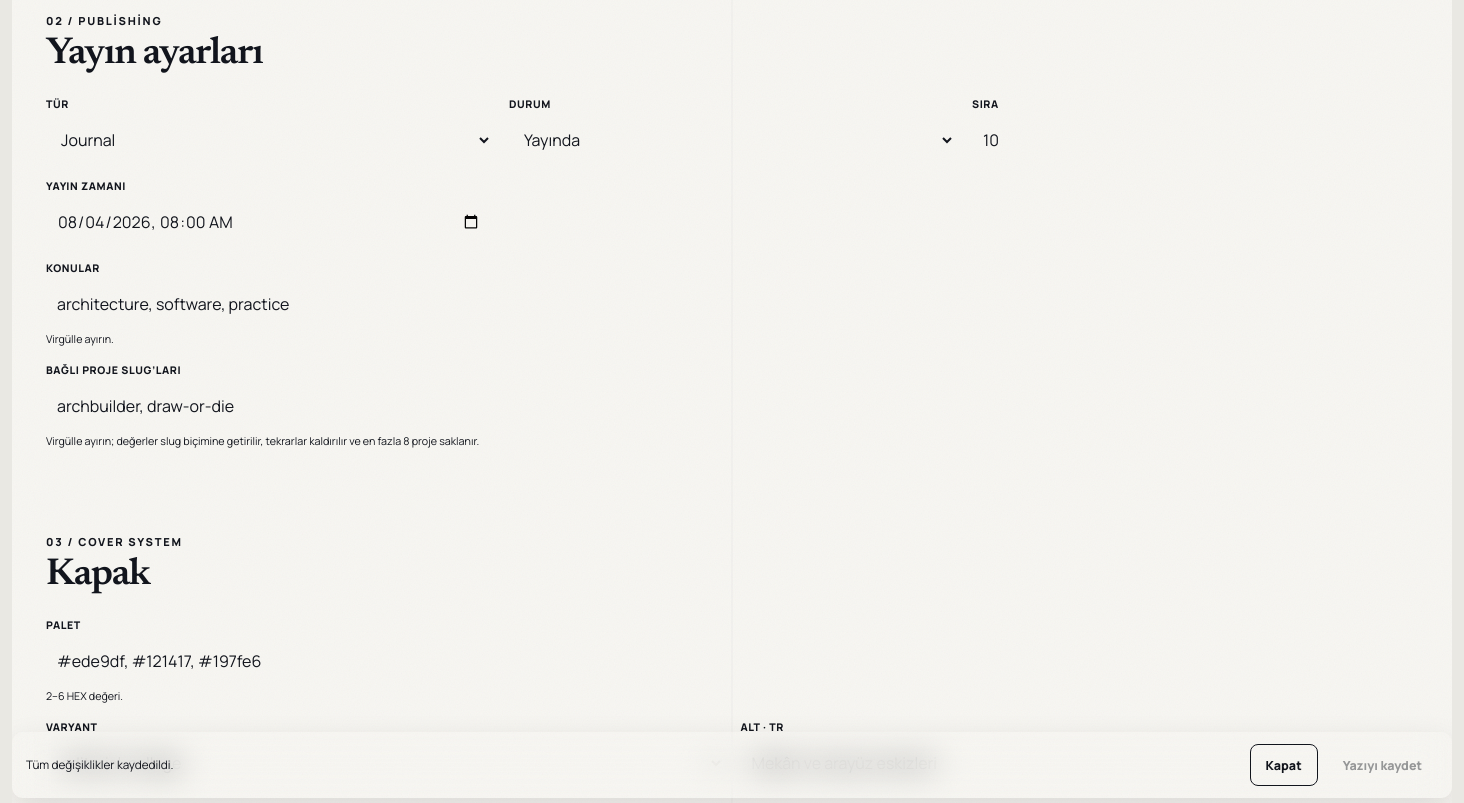
it: JournalEditor › normalizes, deduplicates, saves, and baselines linked project slugs
(page scrolled)
Replace the text in the field labelled "Bağlı proje slug’ları" with "Draw Or Die, archbuilder, draw-or-die, BeatForge" at {"x": 732, "y": 406}, box [46,384,1418,427]
(page scrolled)
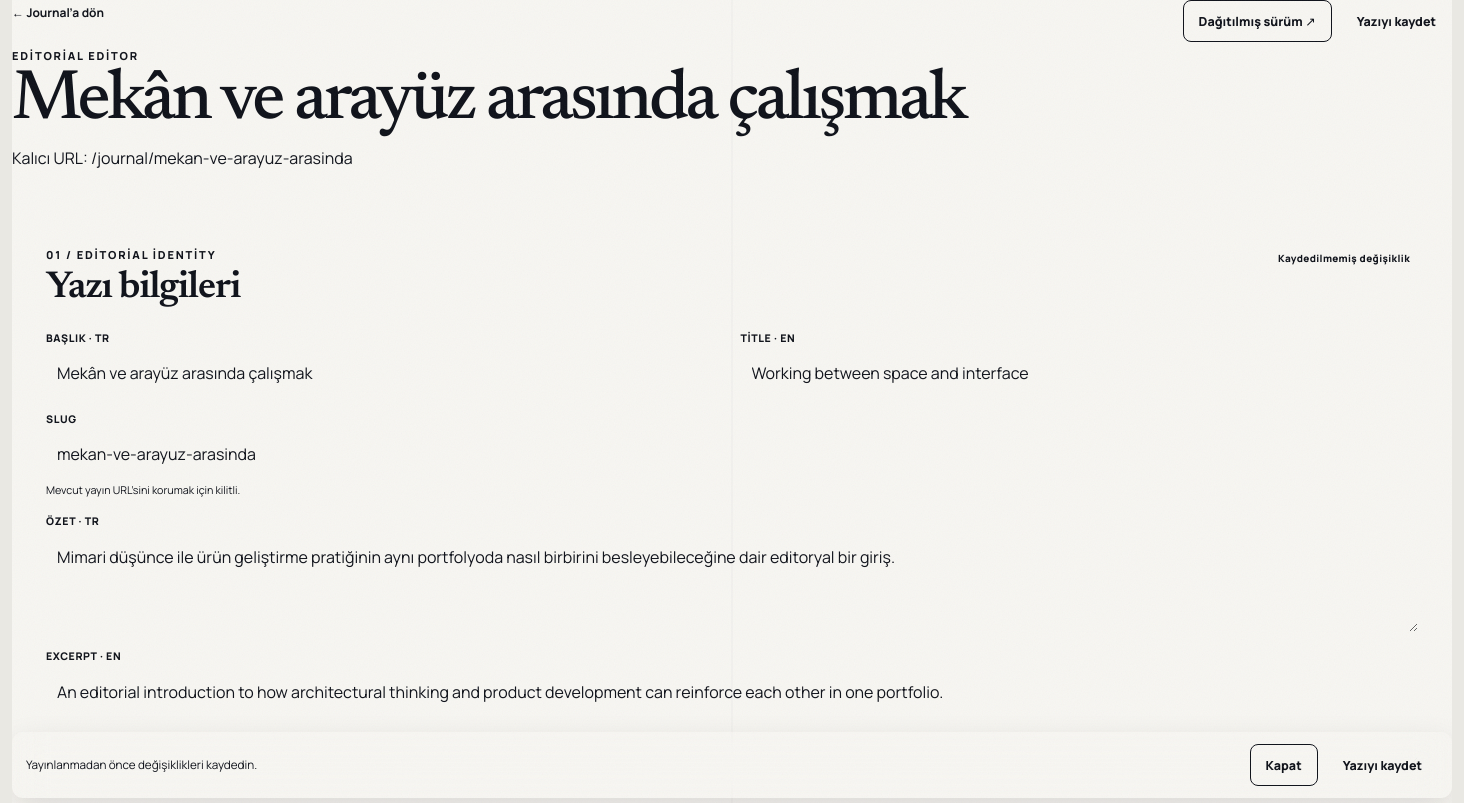
Result: the button "Yazıyı kaydet" next to "Dağıtılmış sürüm ↗" is enabled
Click the button "Yazıyı kaydet" next to "Dağıtılmış sürüm ↗" at {"x": 1396, "y": 21}, box [1341,0,1452,42]
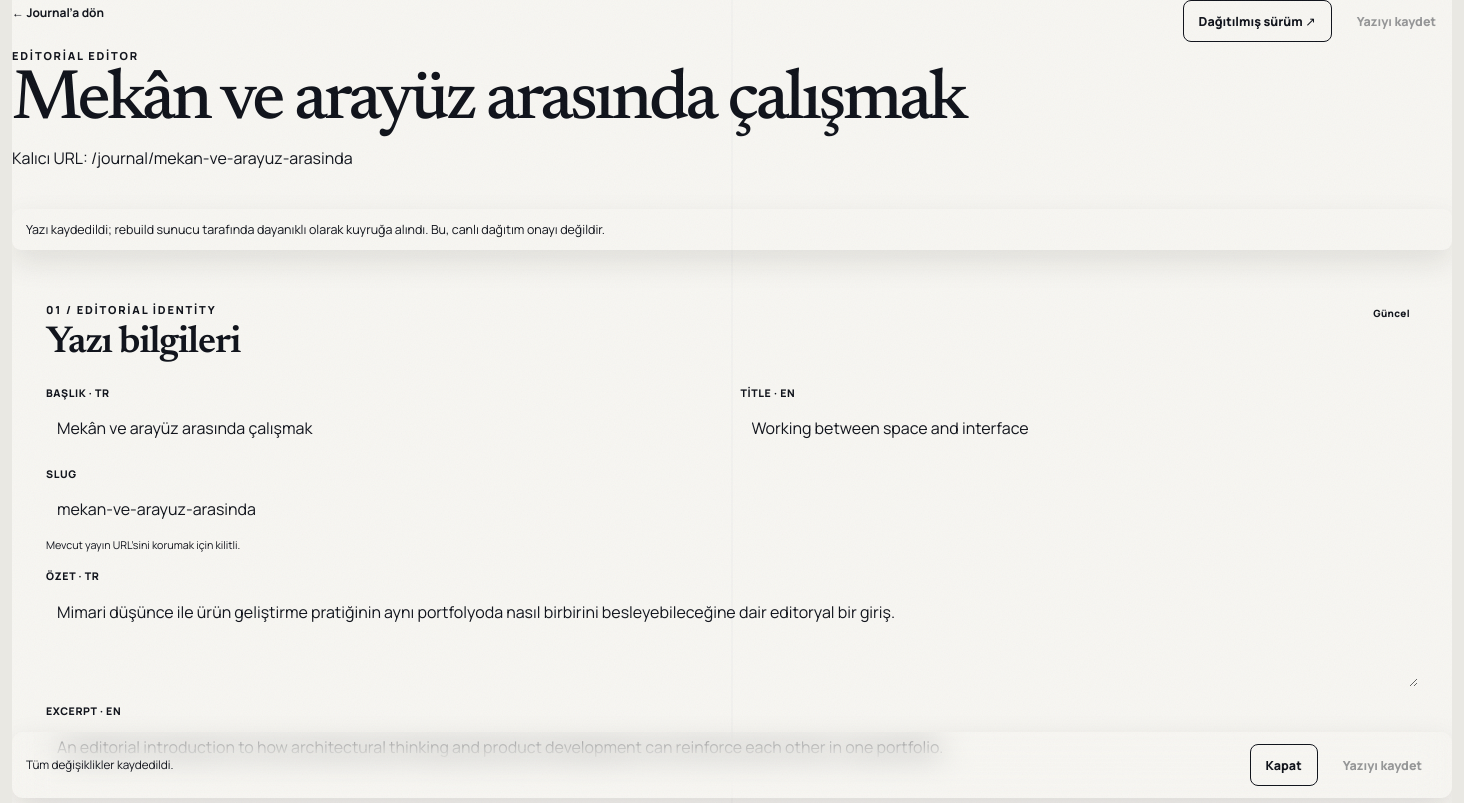
Result: the message shows "rebuild sunucu tarafında dayanıklı olarak kuyruğa alındı" at [26,221,605,238]
Result: the message shows "canlı dağıtım onayı değildir" at [26,221,605,238]
Result: the button "Yazıyı kaydet" next to "Dağıtılmış sürüm ↗" is disabled at [1341,0,1452,42]
